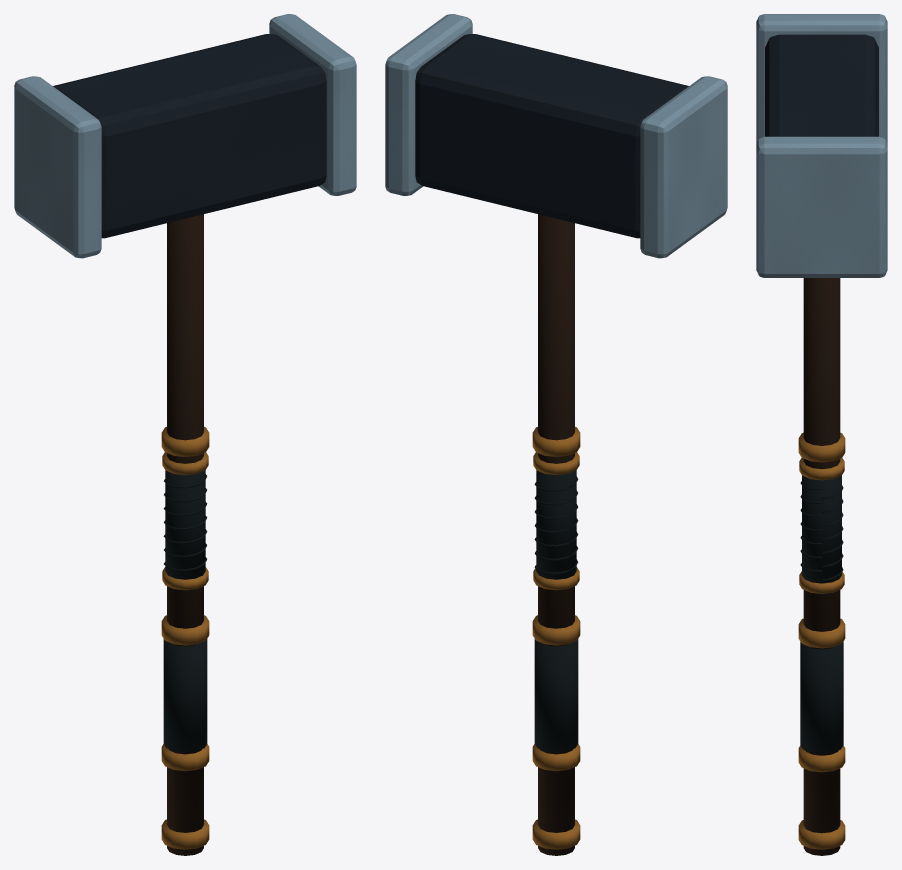
Rendered from Heavy_Hammer.fbx.
3 renders of one model, left to right at view 1: azimuth 30°, elevation 25°; view 2: azimuth 150°, elevation 25°; view 3: azimuth 270°, elevation 25°, orthographic.
Visible parts, largest first — view 1: Heavy_Hammer_DarkSteel, Heavy_Hammer_Steel, Heavy_Hammer_Wood, Heavy_Hammer_Leather, Heavy_Hammer_Gold; view 2: Heavy_Hammer_DarkSteel, Heavy_Hammer_Steel, Heavy_Hammer_Wood, Heavy_Hammer_Leather, Heavy_Hammer_Gold; view 3: Heavy_Hammer_Steel, Heavy_Hammer_DarkSteel, Heavy_Hammer_Wood, Heavy_Hammer_Leather, Heavy_Hammer_Gold.
Part boxes in pixels (x1=…): Heavy_Hammer_DarkSteel: x1=53, y1=34, x2=326, y2=238; Heavy_Hammer_Steel: x1=14, y1=14, x2=356, y2=258; Heavy_Hammer_Wood: x1=167, y1=214, x2=203, y2=855; Heavy_Hammer_Leather: x1=163, y1=470, x2=207, y2=752; Heavy_Hammer_Gold: x1=161, y1=427, x2=209, y2=849; Heavy_Hammer_DarkSteel: x1=415, y1=34, x2=688, y2=238; Heavy_Hammer_Steel: x1=385, y1=14, x2=727, y2=258; Heavy_Hammer_Wood: x1=538, y1=214, x2=574, y2=855; Heavy_Hammer_Leather: x1=534, y1=470, x2=578, y2=752; Heavy_Hammer_Gold: x1=532, y1=427, x2=580, y2=849; Heavy_Hammer_Steel: x1=756, y1=14, x2=887, y2=277; Heavy_Hammer_DarkSteel: x1=765, y1=34, x2=878, y2=136; Heavy_Hammer_Wood: x1=803, y1=278, x2=840, y2=855; Heavy_Hammer_Leather: x1=800, y1=475, x2=843, y2=753; Heavy_Hammer_Gold: x1=798, y1=432, x2=845, y2=849.
Size of the model in its own units: 0.565 by 1.49 by 0.23.
